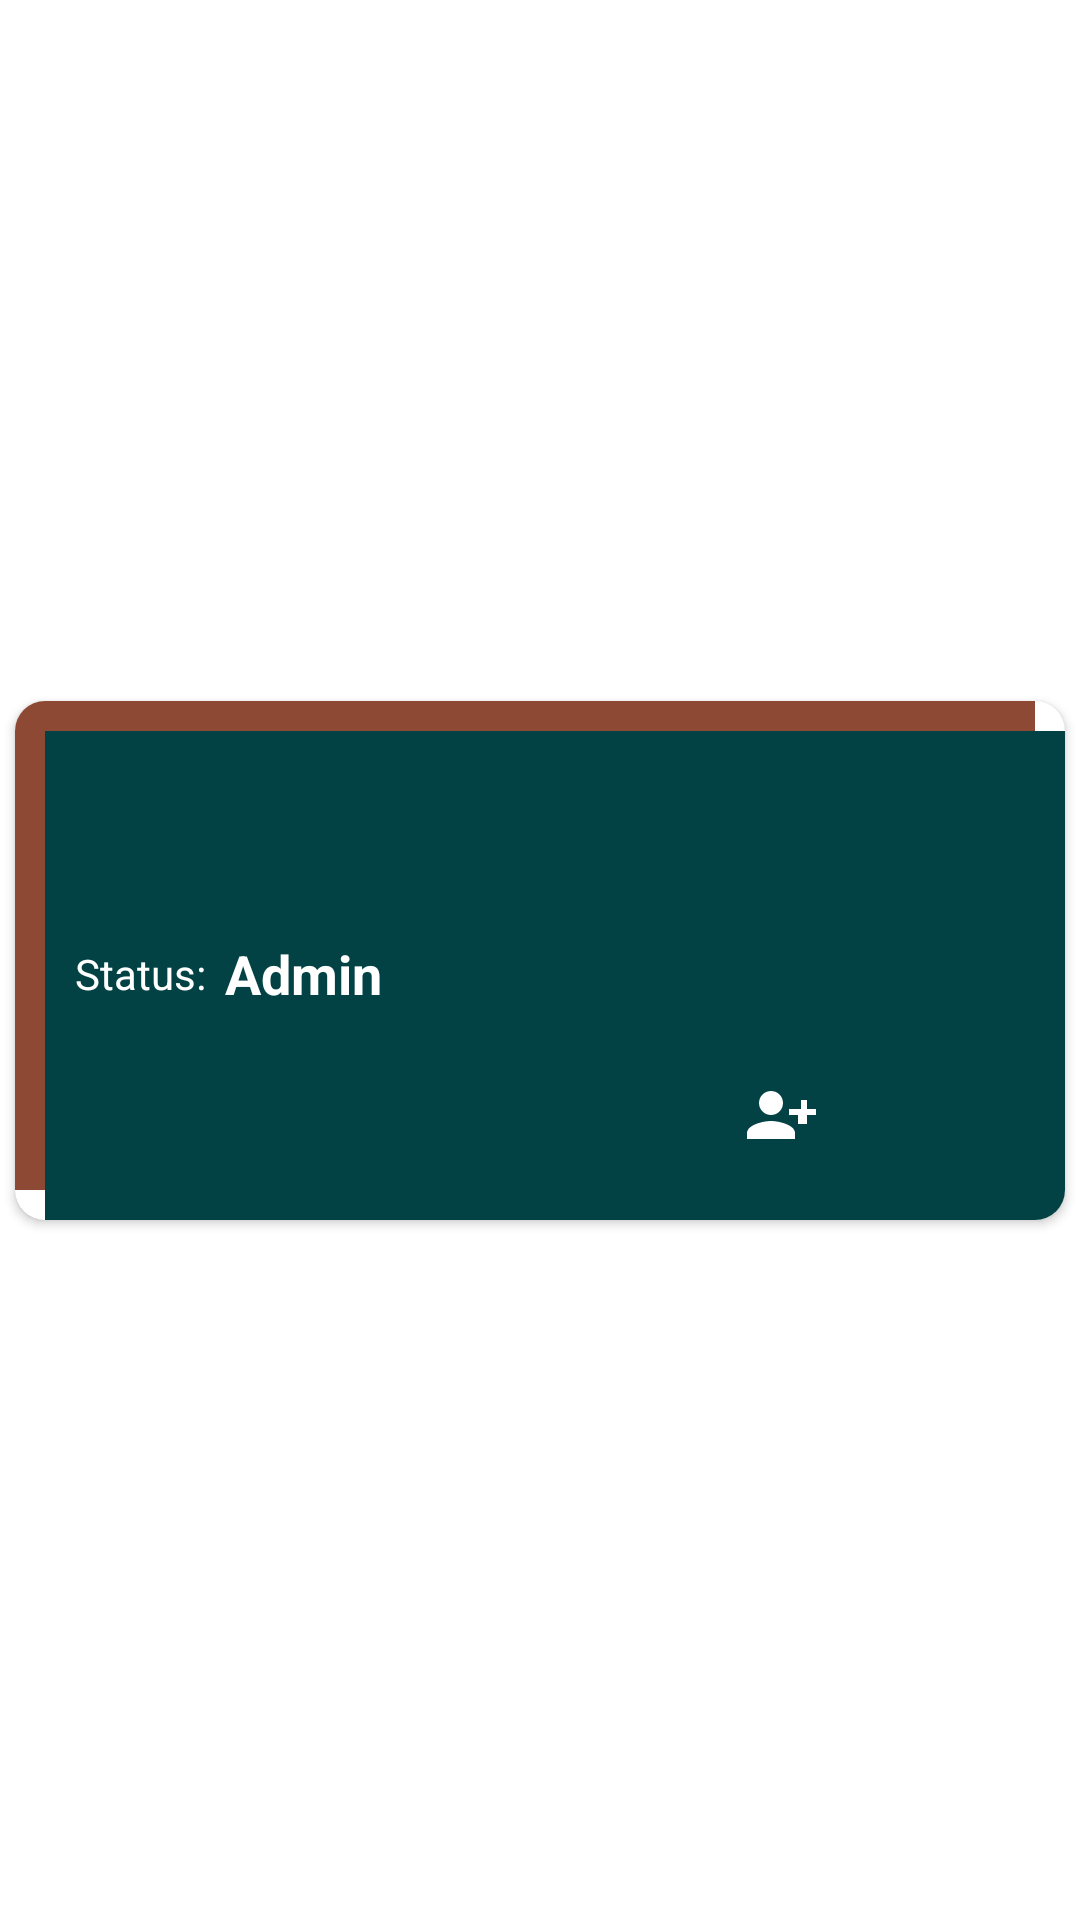

Where icons sit on this 1080 × 1920 app screen, as (x1, y1, x2, y2):
person add: (747, 1091, 816, 1139)
